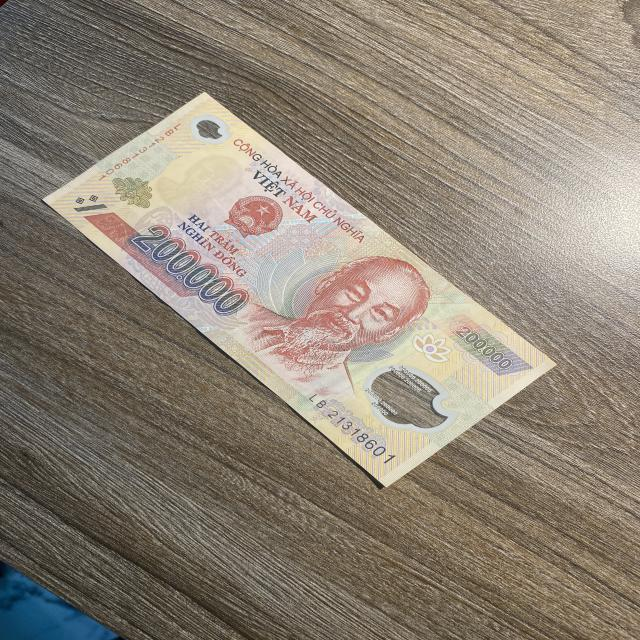200 000 VND: (42, 90, 560, 489)
